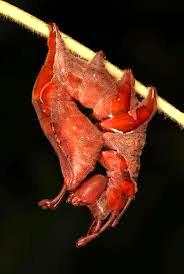Lobster Moth: (30, 20, 165, 241)
